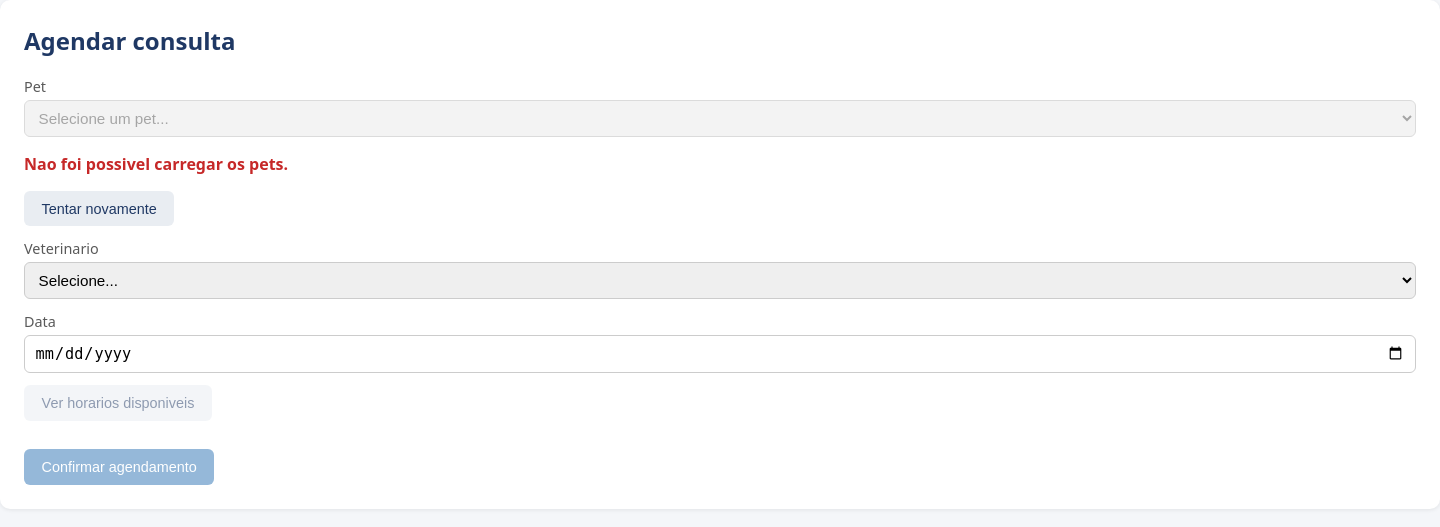
Test: lista vazia e erro de pets impedem agendamento e permitem tentar novamente
Expected: the dropdown labelled "Pet" is disabled, [24,100,1416,137]
Click the button with class "btn-secundario" showing "Tentar novamente".
click(99, 208)  # box [24,191,174,226]
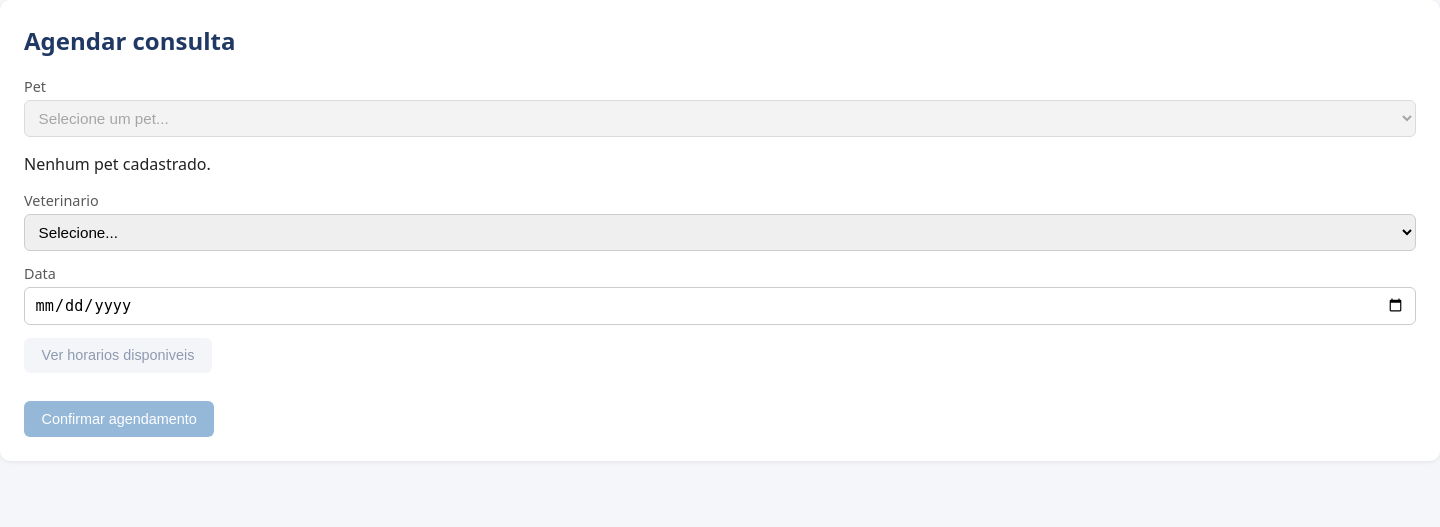
Expected: the submit button is disabled, [24,402,214,437]
Expected: the text "Nenhum pet cadastrado." is shown, [24,153,211,175]
